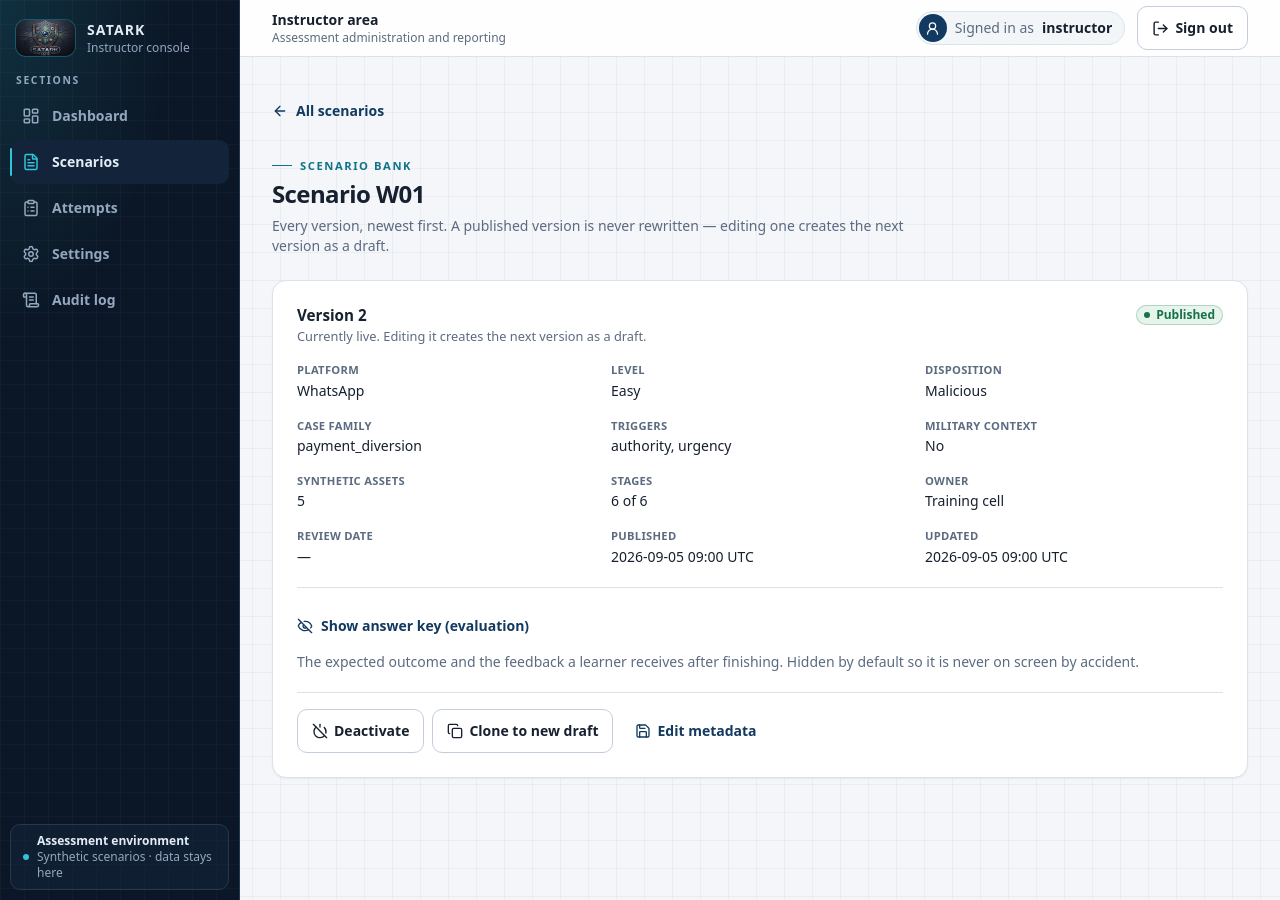
Test: the scenario manager › shows a validation failure inside the dialog and changes nothing
The width and height of the screenshot is (1280, 900).
Expected: the heading "Version 2" is shown, [297,305,367,325]
Click the button "Deactivate": (361, 731) [297,709,424,753]
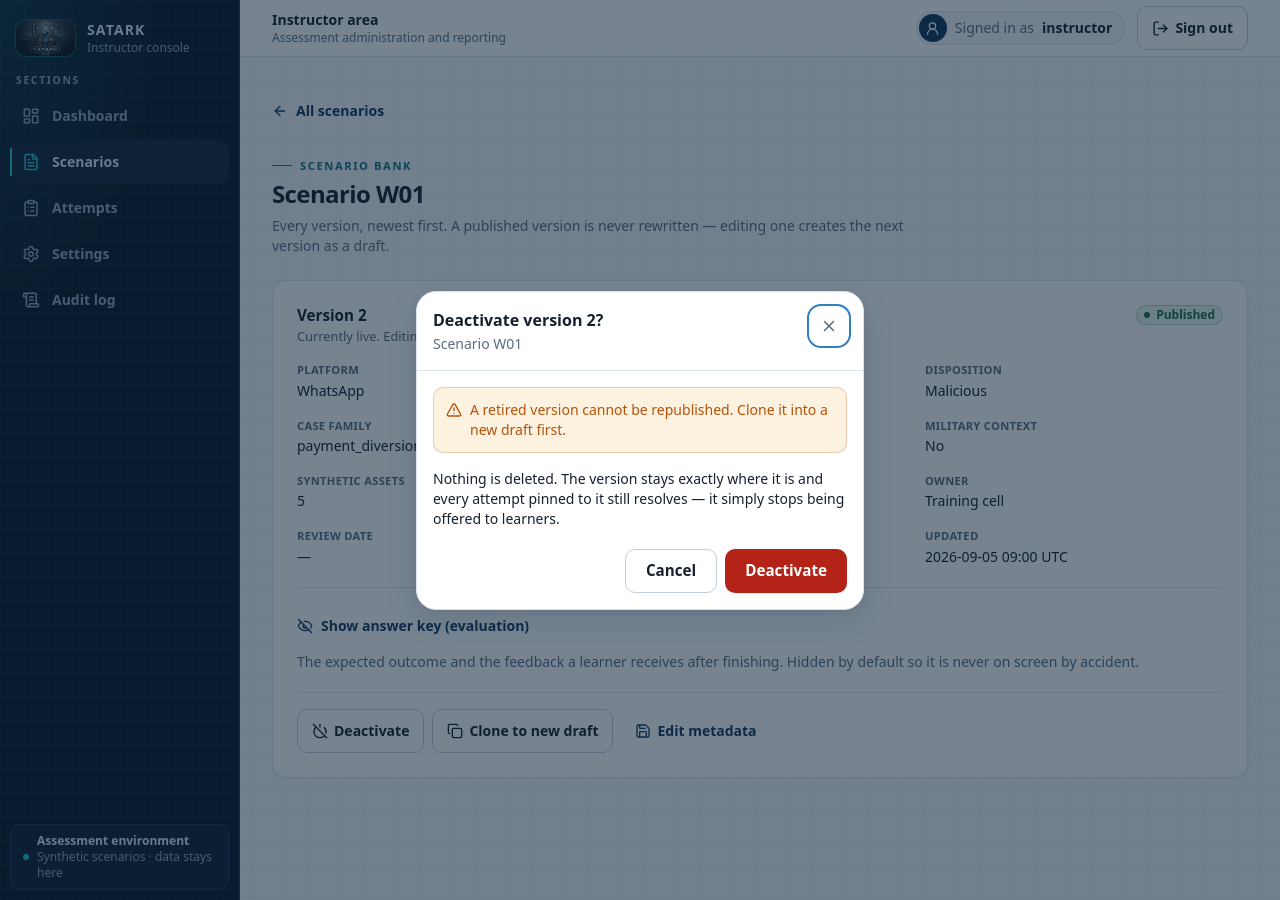
Click the button "Deactivate": (786, 570) [725,548,847,592]
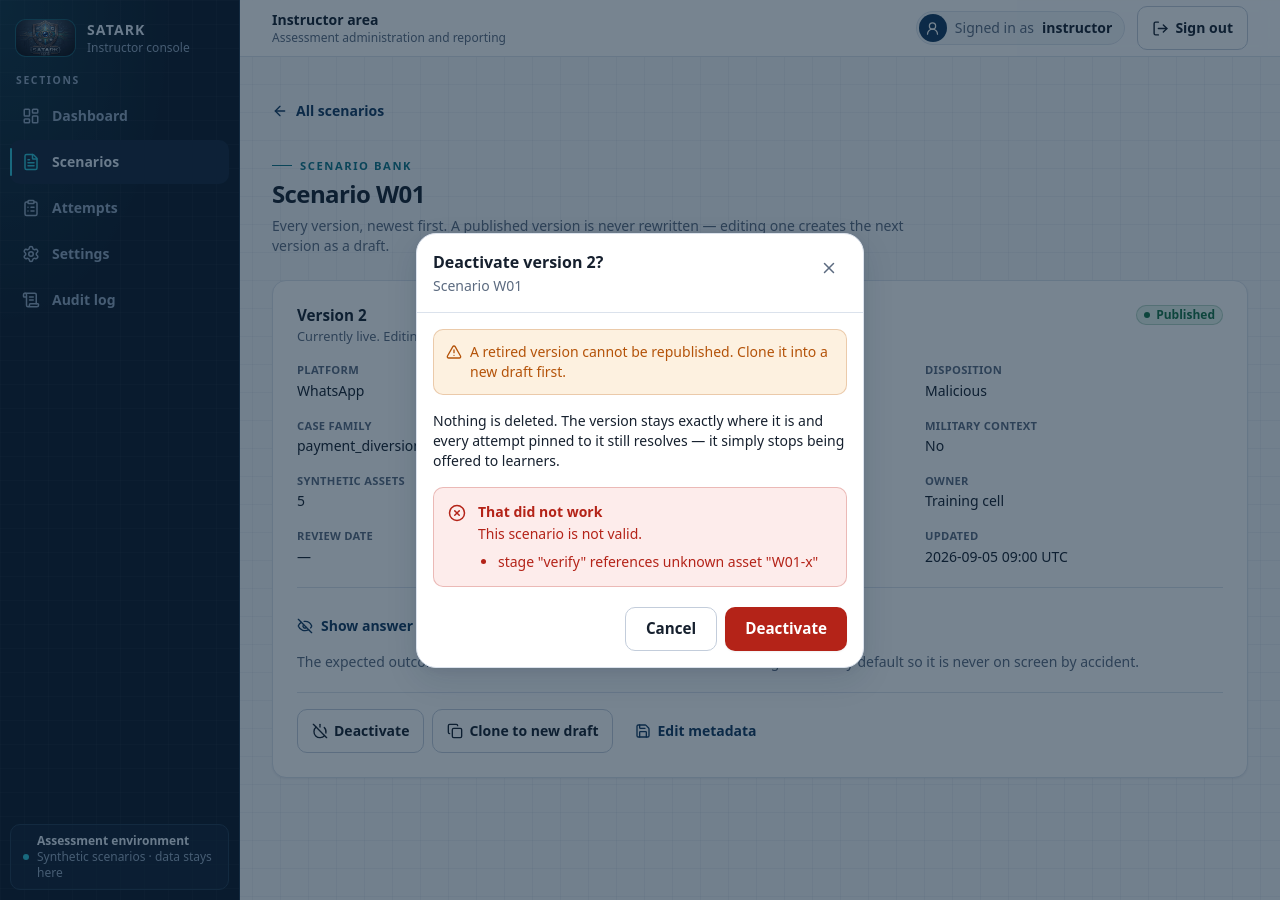
Result: the dialog is shown at [416,232,864,668]
Result: the text "This scenario is not valid." is shown at [478,524,642,542]
Result: the list item "stage \"verify\" references unknown asset \"W01-x\"" is shown at [498,552,818,572]
